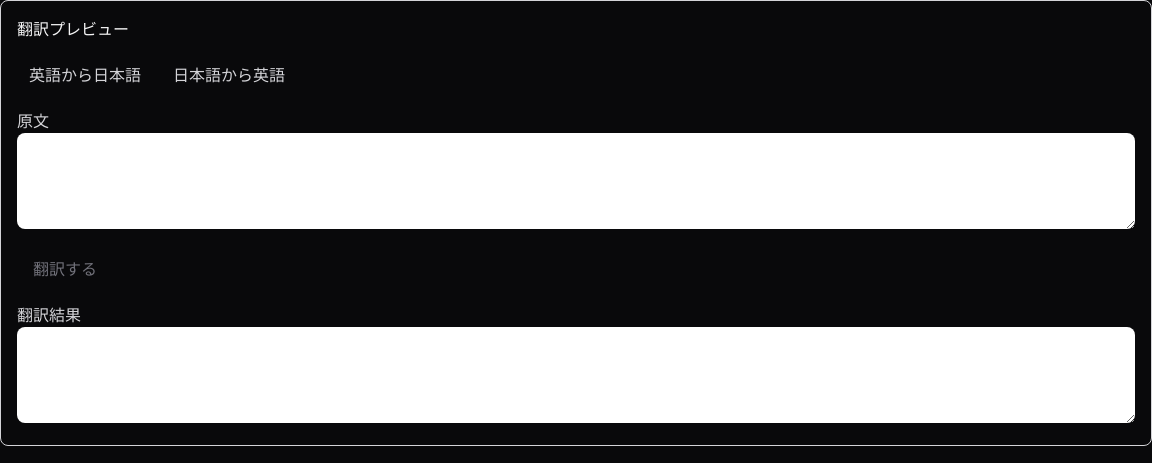
Scenario: TranslationPreviewCard › debounces edits, sends the selected direction and displays a read-only result
Type "Hello" into the text box labelled "原文" at (576, 181), box [17,133,1135,229]
Wait 400 ms
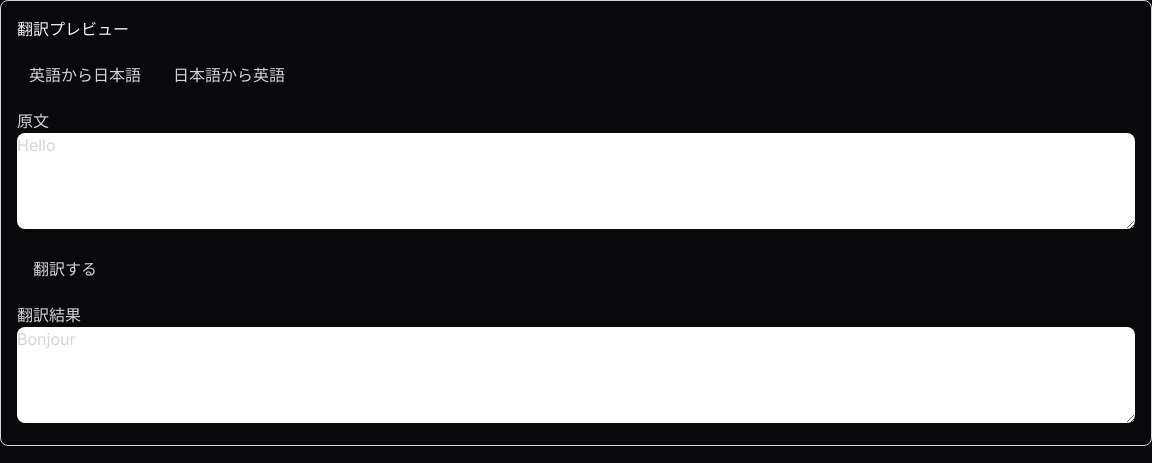
expect the text box labelled "翻訳結果" holds "Bonjour": met, box [17,327,1135,423]
